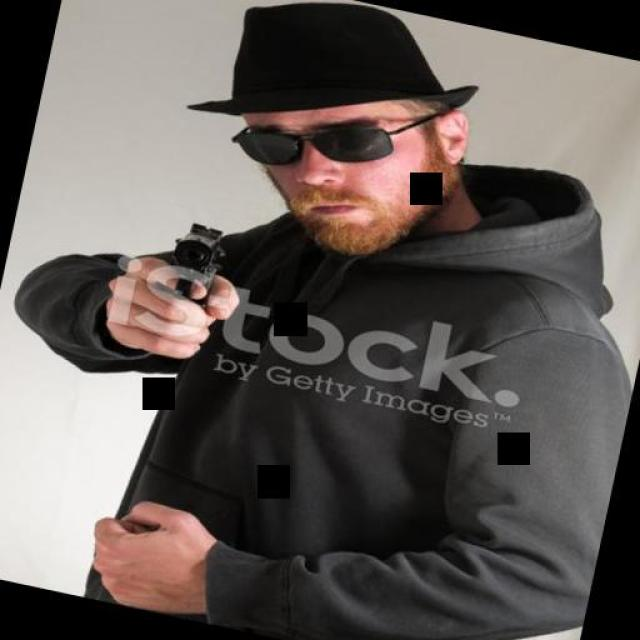gun: (160, 212, 228, 306)
